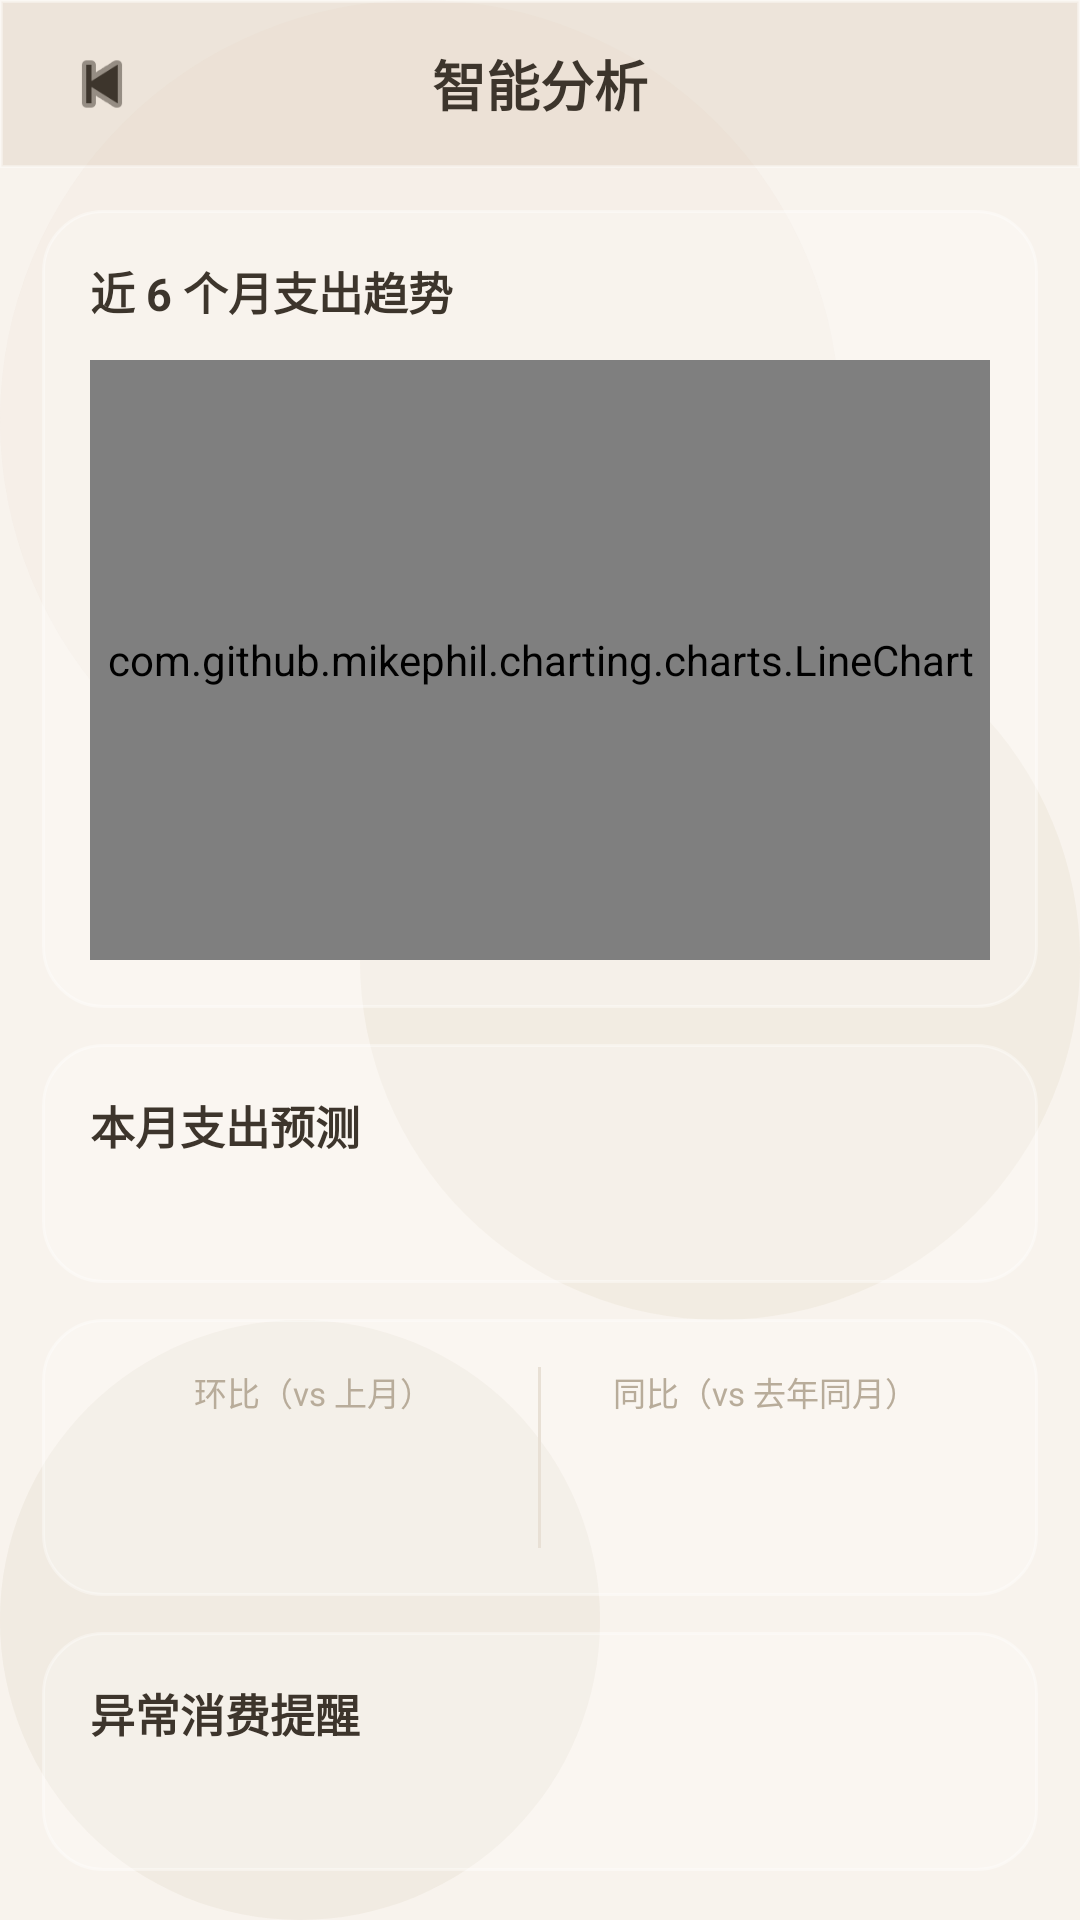

Named icons in this screenshot (1080*1920) and their bounding boxes, box(x1, y1, x2, y2):
previous: box(82, 60, 122, 108)
